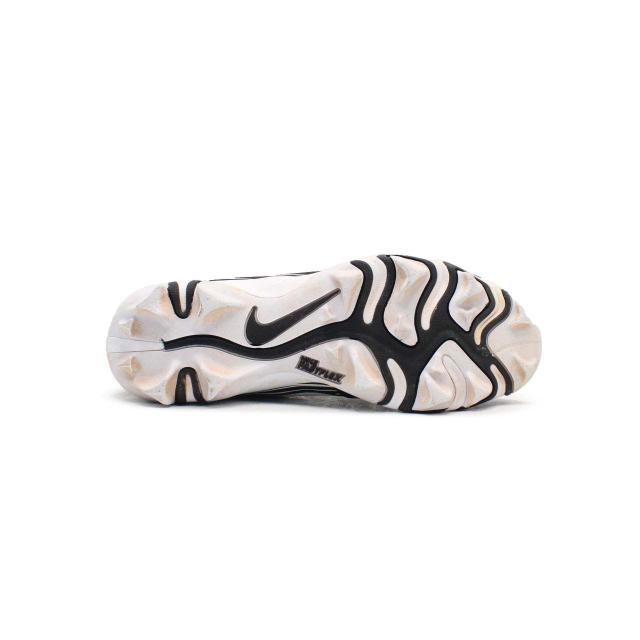outersole: (106, 253, 545, 413)
